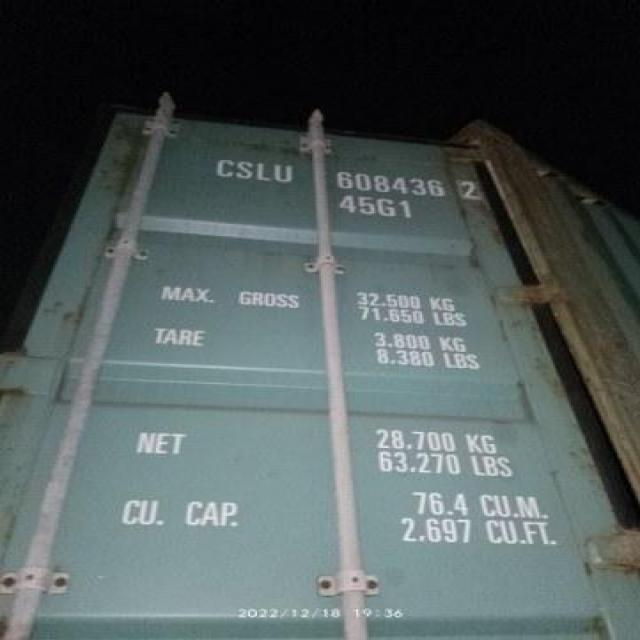container_number_h: (181, 143, 520, 242)
